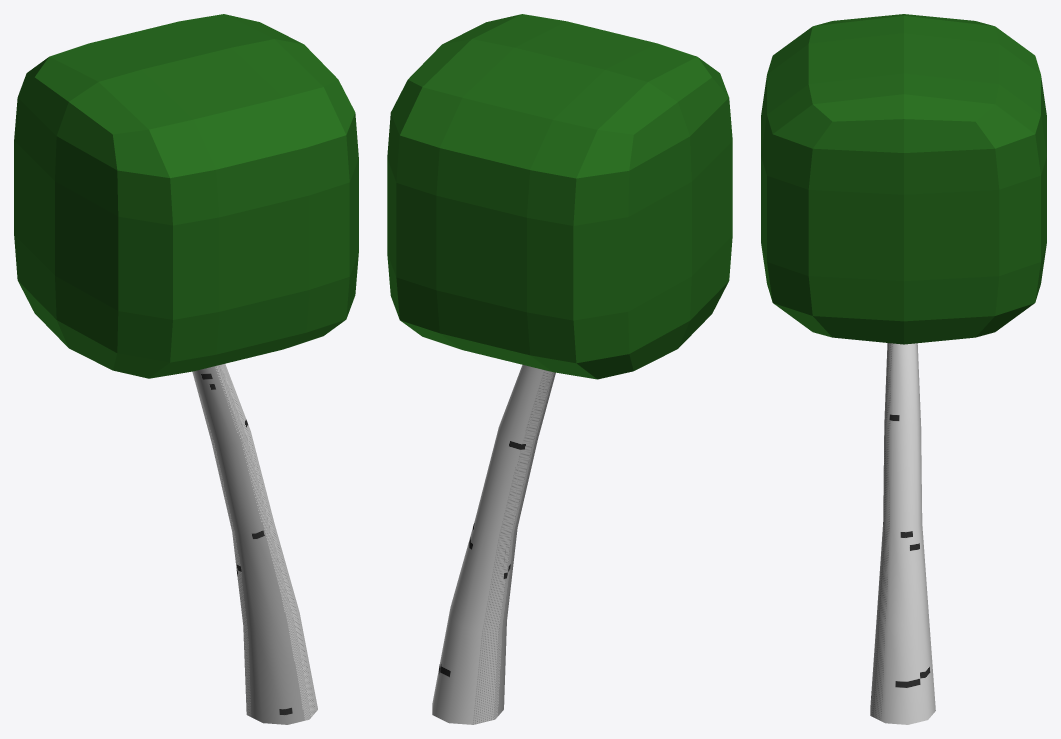
File: Abedul Chico.fbx
3 renders of one model, left to right at view 1: azimuth 30°, elevation 25°; view 2: azimuth 150°, elevation 25°; view 3: azimuth 270°, elevation 25°, orthographic. The views are drawn at different scales.
Visible parts, largest first — view 1: Abedul Chico; view 2: Abedul Chico; view 3: Abedul Chico.
Part boxes in pixels (<box>): Abedul Chico: <box>14,14,358,724</box>; Abedul Chico: <box>387,14,732,724</box>; Abedul Chico: <box>761,14,1046,724</box>.
Bounding box in the file's own units: 138 × 142 × 336.
2 materials, 1 textured.
